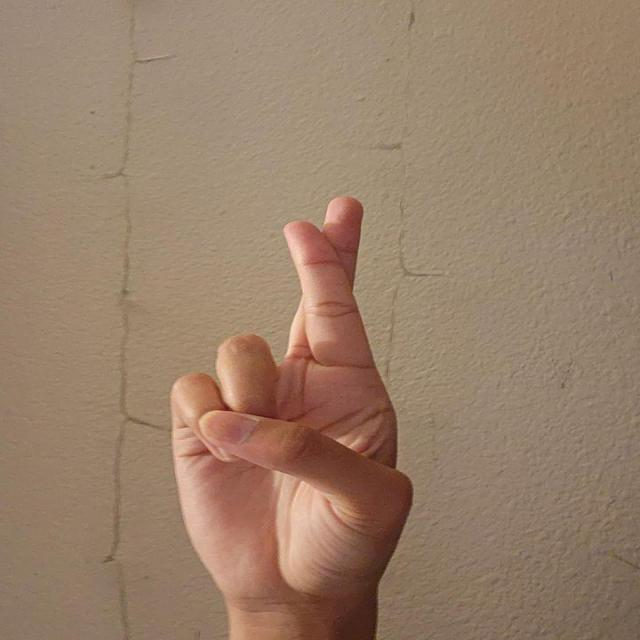R: (159, 193, 425, 614)
